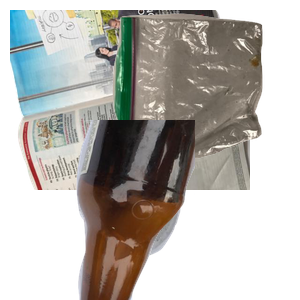glass: (60, 120, 300, 300)
paper: (10, 10, 250, 190)
plastic: (75, 154, 248, 300)
trash: (110, 11, 300, 167)
